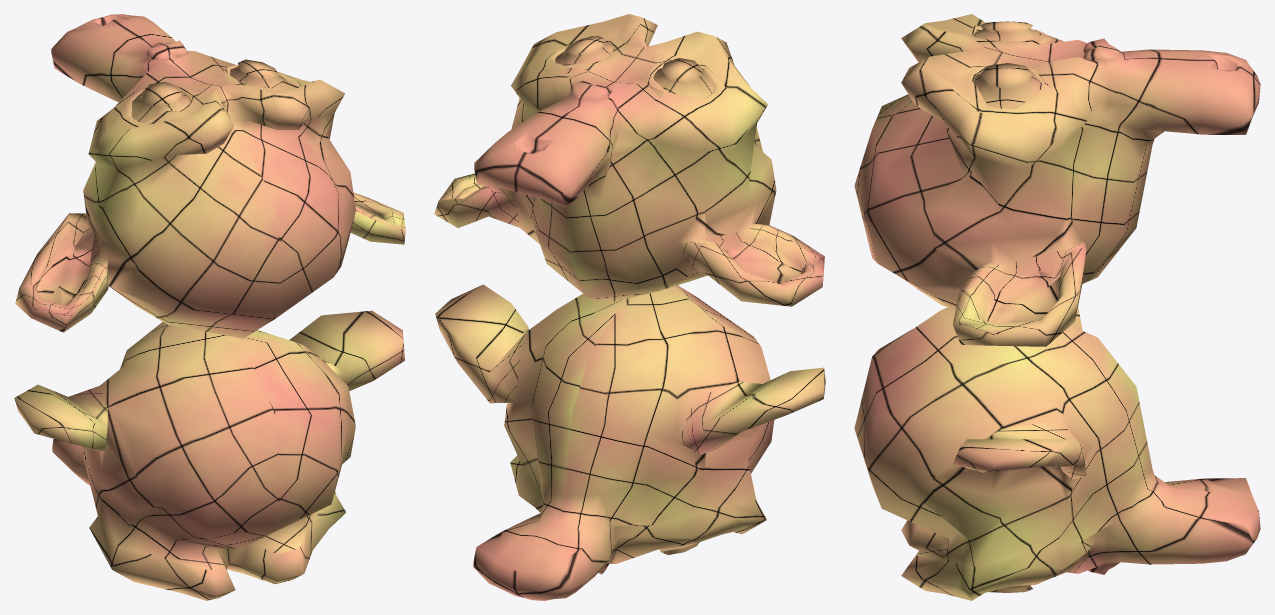
Rendered from suzanne.glb.
3 renders of one model, left to right at view 1: azimuth 30°, elevation 25°; view 2: azimuth 150°, elevation 25°; view 3: azimuth 270°, elevation 25°, orthographic. The views are drawn at different scales.
Parts seen in each view (by area): view 1: Suzanne.001, Suzanne; view 2: Suzanne, Suzanne.001; view 3: Suzanne.001, Suzanne.
Boxes of the visible parts, <box> form: Suzanne.001: <box>15,14,405,338</box>; Suzanne: <box>14,310,404,600</box>; Suzanne: <box>435,284,825,600</box>; Suzanne.001: <box>434,14,824,306</box>; Suzanne.001: <box>854,14,1260,346</box>; Suzanne: <box>854,306,1260,600</box>.
Bounding box in the file's own units: 15.69 × 19.72 × 13.74.
Materials: 1 (1 with a texture image).
